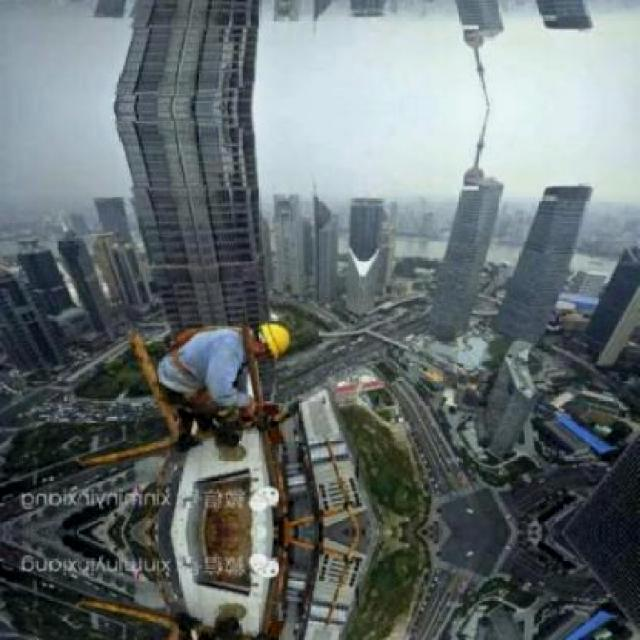head_helmet: (260, 318, 296, 362)
person: (156, 318, 291, 461)
